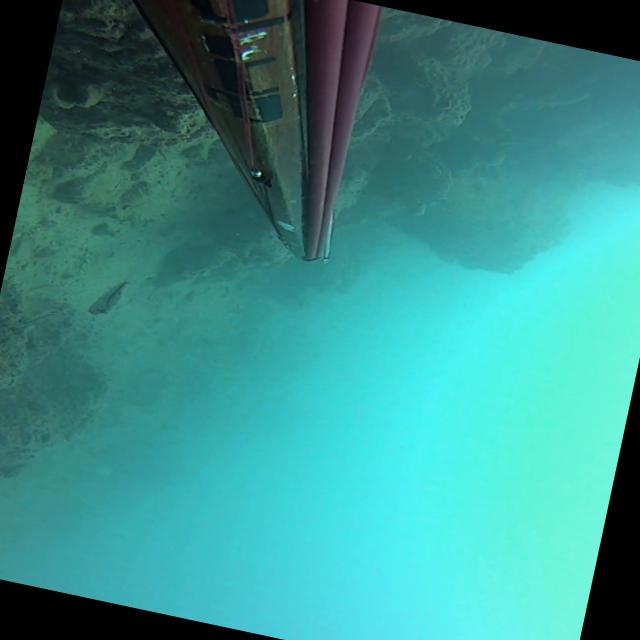Balon Baligi: (86, 272, 132, 321), (26, 298, 76, 332)
